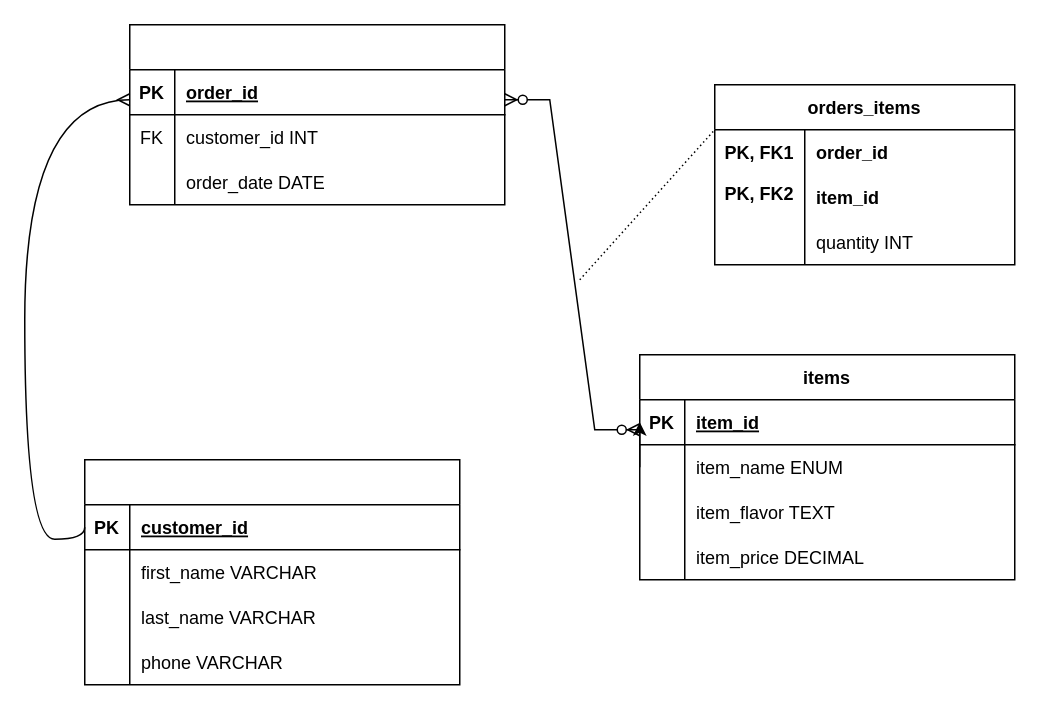
Some shapes in this 1040 by 710 pixel diagram are drawn without their labels. Each missing label, with the box of its shape:
customers: (83, 458, 460, 685)
orders: (128, 23, 505, 205)
